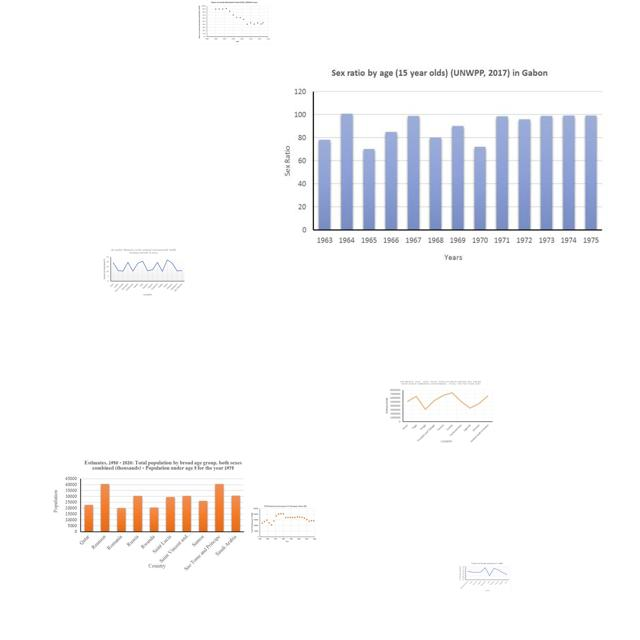Graph: (277, 61, 621, 270), (50, 458, 250, 572), (384, 379, 494, 444), (101, 247, 186, 297), (197, 0, 272, 45), (250, 504, 317, 543), (458, 561, 511, 593)
